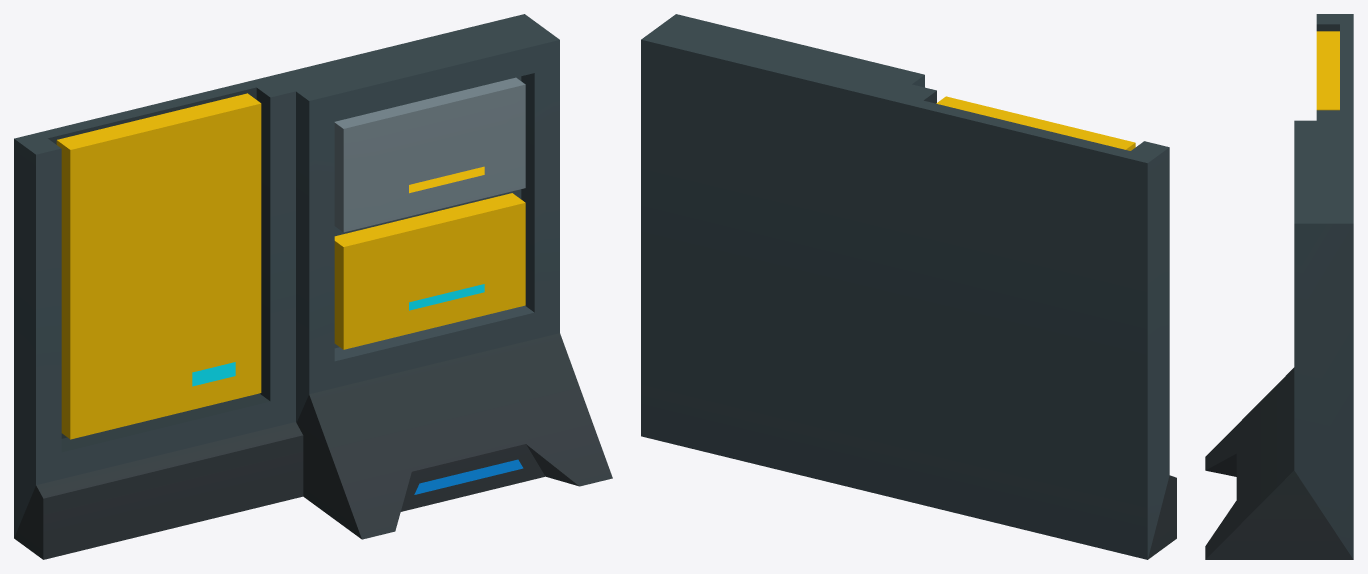
The model's file is Wall_type_C_038.glb.
3 views of the same model, side by side, from view 1: azimuth 30°, elevation 25°; view 2: azimuth 150°, elevation 25°; view 3: azimuth 270°, elevation 25° (orthographic). The views are drawn at different scales.
Parts seen in each view (by area): view 1: Wall_type_C_038; view 2: Wall_type_C_038; view 3: Wall_type_C_038.
Part boxes in pixels (bbox=[...]): Wall_type_C_038: bbox=[14, 14, 612, 559]; Wall_type_C_038: bbox=[641, 14, 1176, 559]; Wall_type_C_038: bbox=[1205, 14, 1353, 559].
Bounding box in the file's own units: 2.01 × 1.5 × 0.6.
2 materials, 2 textured.
